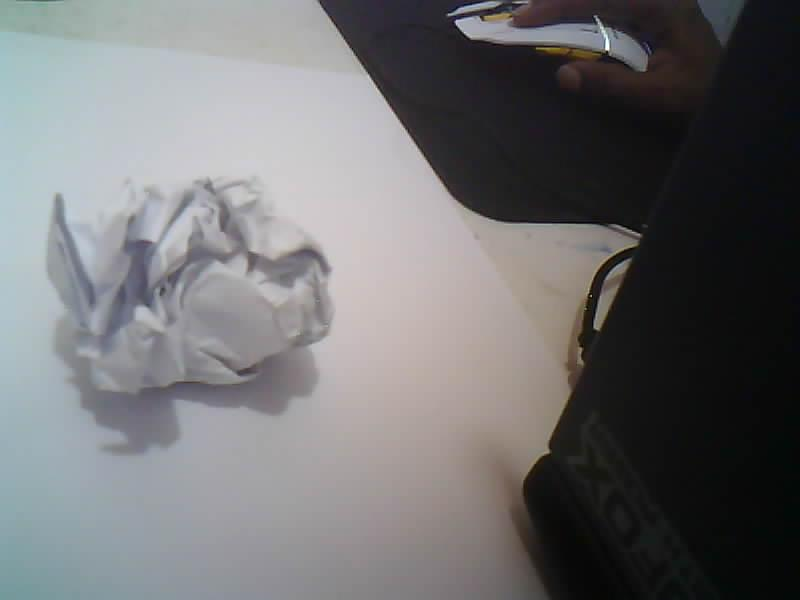biodegradable: (48, 178, 330, 393)
